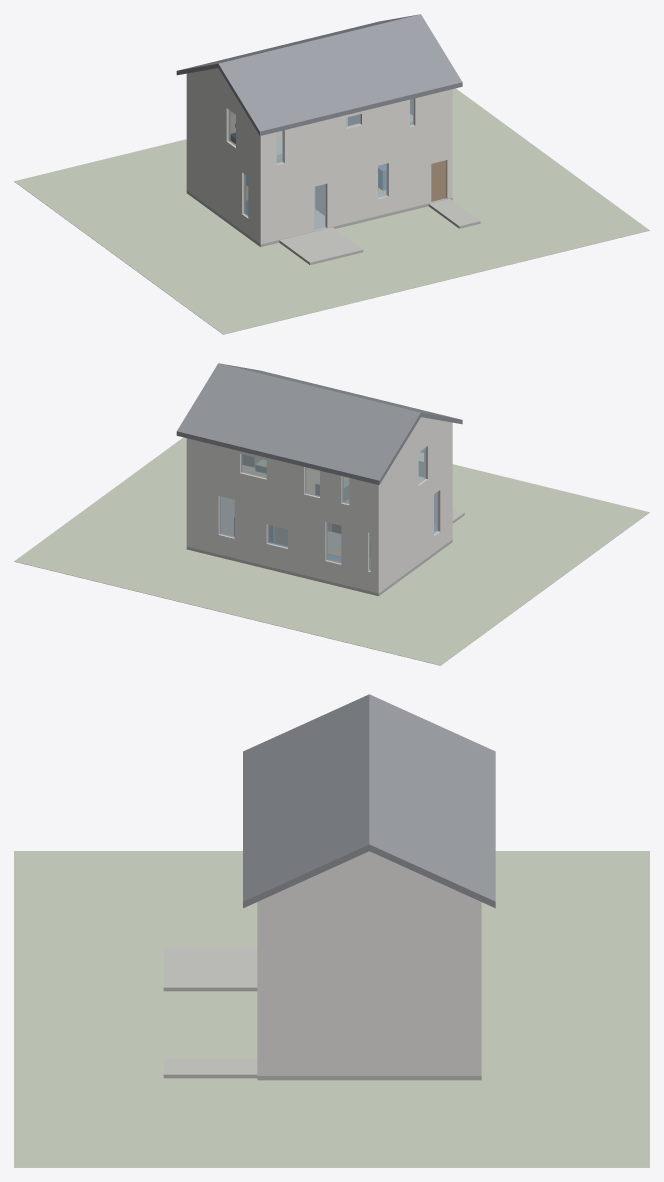
The model's file is building.glb.
3 renders of one model, top to bottom at view 1: azimuth 30°, elevation 25°; view 2: azimuth 150°, elevation 25°; view 3: azimuth 270°, elevation 25°, orthographic. The views are drawn at different scales.
Visible parts, largest first — view 1: Site / Ground, Roof / South roof, Walls-Ext-Sheathing / West wall sheathing pier end, Walls-Ext-Sheathing / South wall sheathing below Living sout, Walls-Ext-Sheathing / South wall sheathing pier 2, Walls-Ext-Sheathing / South wall sheathing above Studio load, Walls-Ext-Sheathing / South wall sheathing above Studio sout, Slab / Apron (concrete, at big door), Walls-Ext-Sheathing / South wall sheathing pier 5, Walls-Ext-Sheathing / South wall sheathing pier 0, Walls-Ext-Sheathing / South wall sheathing pier 3, Walls-Ext-Sheathing / West wall sheathing below Living west  (+13 smaller); view 2: Site / Ground, Roof / North roof, Walls-Ext-Sheathing / North wall sheathing pier end, Walls-Ext-Sheathing / North wall sheathing above North light (×3), Walls-Ext-Sheathing / West wall sheathing pier end, Walls-Ext-Sheathing / North wall sheathing below Kitchen win, Walls-Ext-Sheathing / West wall sheathing below Living west , Walls-Ext-Sheathing / North wall sheathing pier 4, Walls-Ext-Sheathing / North wall sheathing below Dining nort, Walls-Ext-Sheathing / North wall sheathing below Living nort, Walls-Ext-Sheathing / West wall sheathing pier 0, Walls-Ext-Sheathing / North wall sheathing above Wet room wi (+11 smaller); view 3: Site / Ground, Roof / North roof, Roof / South roof, Walls-Ext-Sheathing / East wall sheathing pier end, Walls-Ext-Sheathing / East wall sheathing pier 0, Walls-Ext-Sheathing / East gable sheathing, Walls-Ext-Sheathing / East wall sheathing below Stair hall u, Slab / Apron (concrete, at big door), Walls-Ext-Sheathing / East wall sheathing above Stair hall w, Slab / Path to ADU entry, Slab / Ground floor slab (6" reinforced, for press load), Walls-Ext-Sheathing / East wall sheathing below Stair hall w.
Part boxes in pixels (x1,y1,x2,y2): Site / Ground: (14,88,649,334); Roof / South roof: (218,14,462,135); Walls-Ext-Sheathing / West wall sheathing pier end: (187,73,214,210); Walls-Ext-Sheathing / South wall sheathing below Living sout: (276,156,313,240); Walls-Ext-Sheathing / South wall sheathing pier 2: (327,115,345,227); Walls-Ext-Sheathing / South wall sheathing above Studio load: (284,120,327,186); Walls-Ext-Sheathing / South wall sheathing above Studio sout: (378,99,409,165); Slab / Apron (concrete, at big door): (279,227,363,265); Walls-Ext-Sheathing / South wall sheathing pier 5: (415,94,431,206); Walls-Ext-Sheathing / South wall sheathing pier 0: (260,132,276,244); Walls-Ext-Sheathing / South wall sheathing pier 3: (362,107,377,219); Walls-Ext-Sheathing / West wall sheathing below Living west : (214,142,242,229); Site / Ground: (14,437,649,665); Roof / North roof: (176,363,420,484); Walls-Ext-Sheathing / North wall sheathing pier end: (186,438,218,554); Walls-Ext-Sheathing / North wall sheathing above North light (×3): (218,446,370,532); Walls-Ext-Sheathing / West wall sheathing pier end: (379,457,406,592); Walls-Ext-Sheathing / North wall sheathing below Kitchen win: (234,472,266,565); Walls-Ext-Sheathing / West wall sheathing below Living west : (400,475,433,575); Walls-Ext-Sheathing / North wall sheathing pier 4: (288,463,304,575); Walls-Ext-Sheathing / North wall sheathing below Dining nort: (304,494,325,579); Walls-Ext-Sheathing / North wall sheathing below Living nort: (341,503,368,590); Walls-Ext-Sheathing / West wall sheathing pier 0: (440,423,452,547); Walls-Ext-Sheathing / North wall sheathing above Wet room wi: (266,458,287,529); Site / Ground: (14,851,649,1167); Roof / North roof: (369,694,495,908); Roof / South roof: (243,694,369,908); Walls-Ext-Sheathing / East wall sheathing pier end: (378,898,481,1075); Walls-Ext-Sheathing / East wall sheathing pier 0: (257,898,341,1075); Walls-Ext-Sheathing / East gable sheathing: (267,851,471,897); Walls-Ext-Sheathing / East wall sheathing below Stair hall u: (341,957,378,1075); Slab / Apron (concrete, at big door): (163,948,257,991); Walls-Ext-Sheathing / East wall sheathing above Stair hall w: (341,898,378,999); Slab / Path to ADU entry: (163,1058,257,1078); Slab / Ground floor slab (6" reinforced, for press load): (257,1076,481,1080); Walls-Ext-Sheathing / East wall sheathing below Stair hall w: (341,1035,378,1075).
Size of the model in its own units: 24.38 by 8.64 by 20.73.
